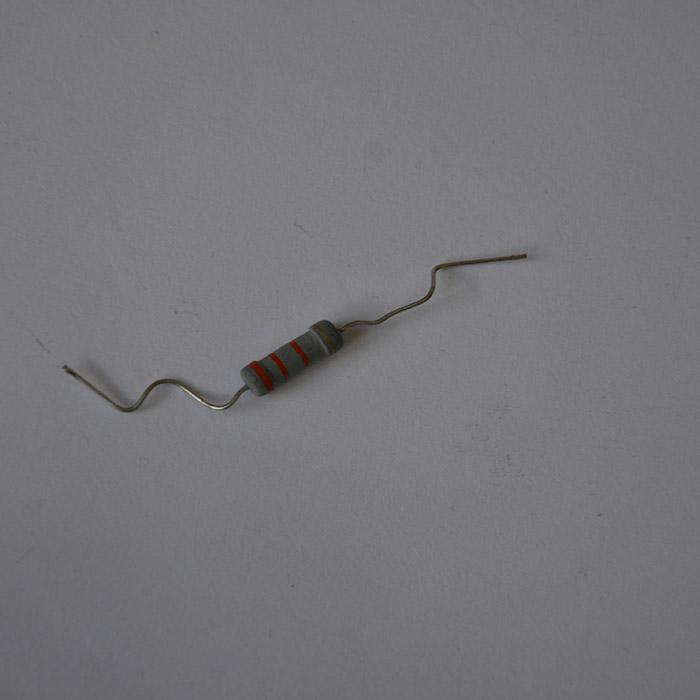resistor: (239, 318, 343, 396)
